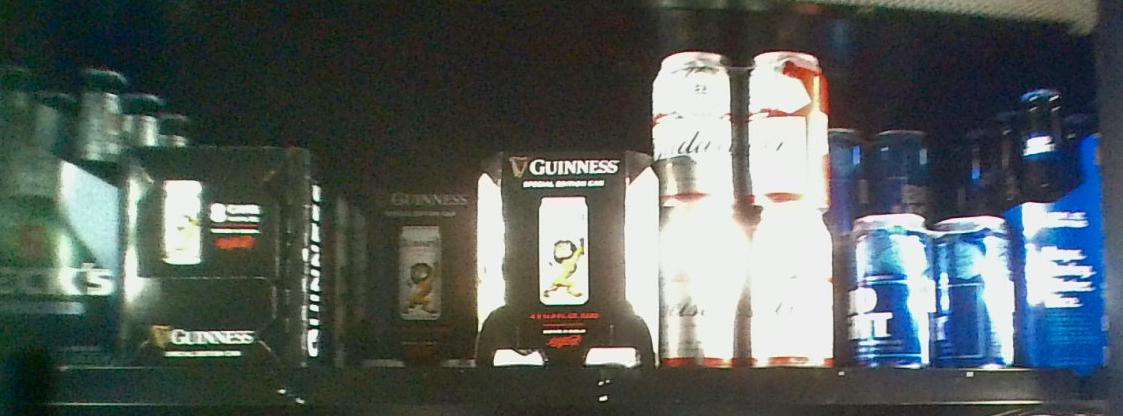bottle: (656, 53, 836, 366), (120, 144, 328, 367), (477, 148, 656, 367), (852, 217, 1017, 368), (373, 189, 474, 368)
